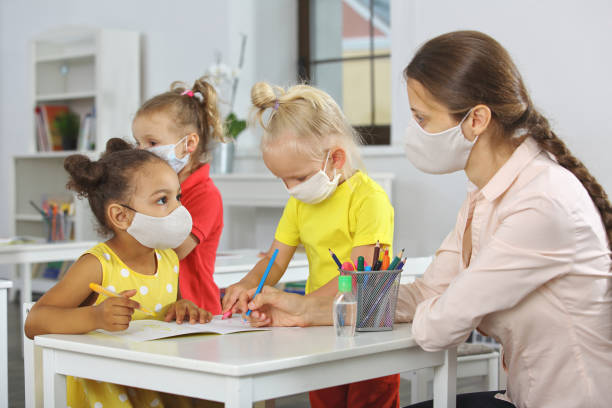with mask: (66, 146, 194, 250), (391, 59, 492, 176), (261, 104, 343, 204), (132, 90, 200, 181)
